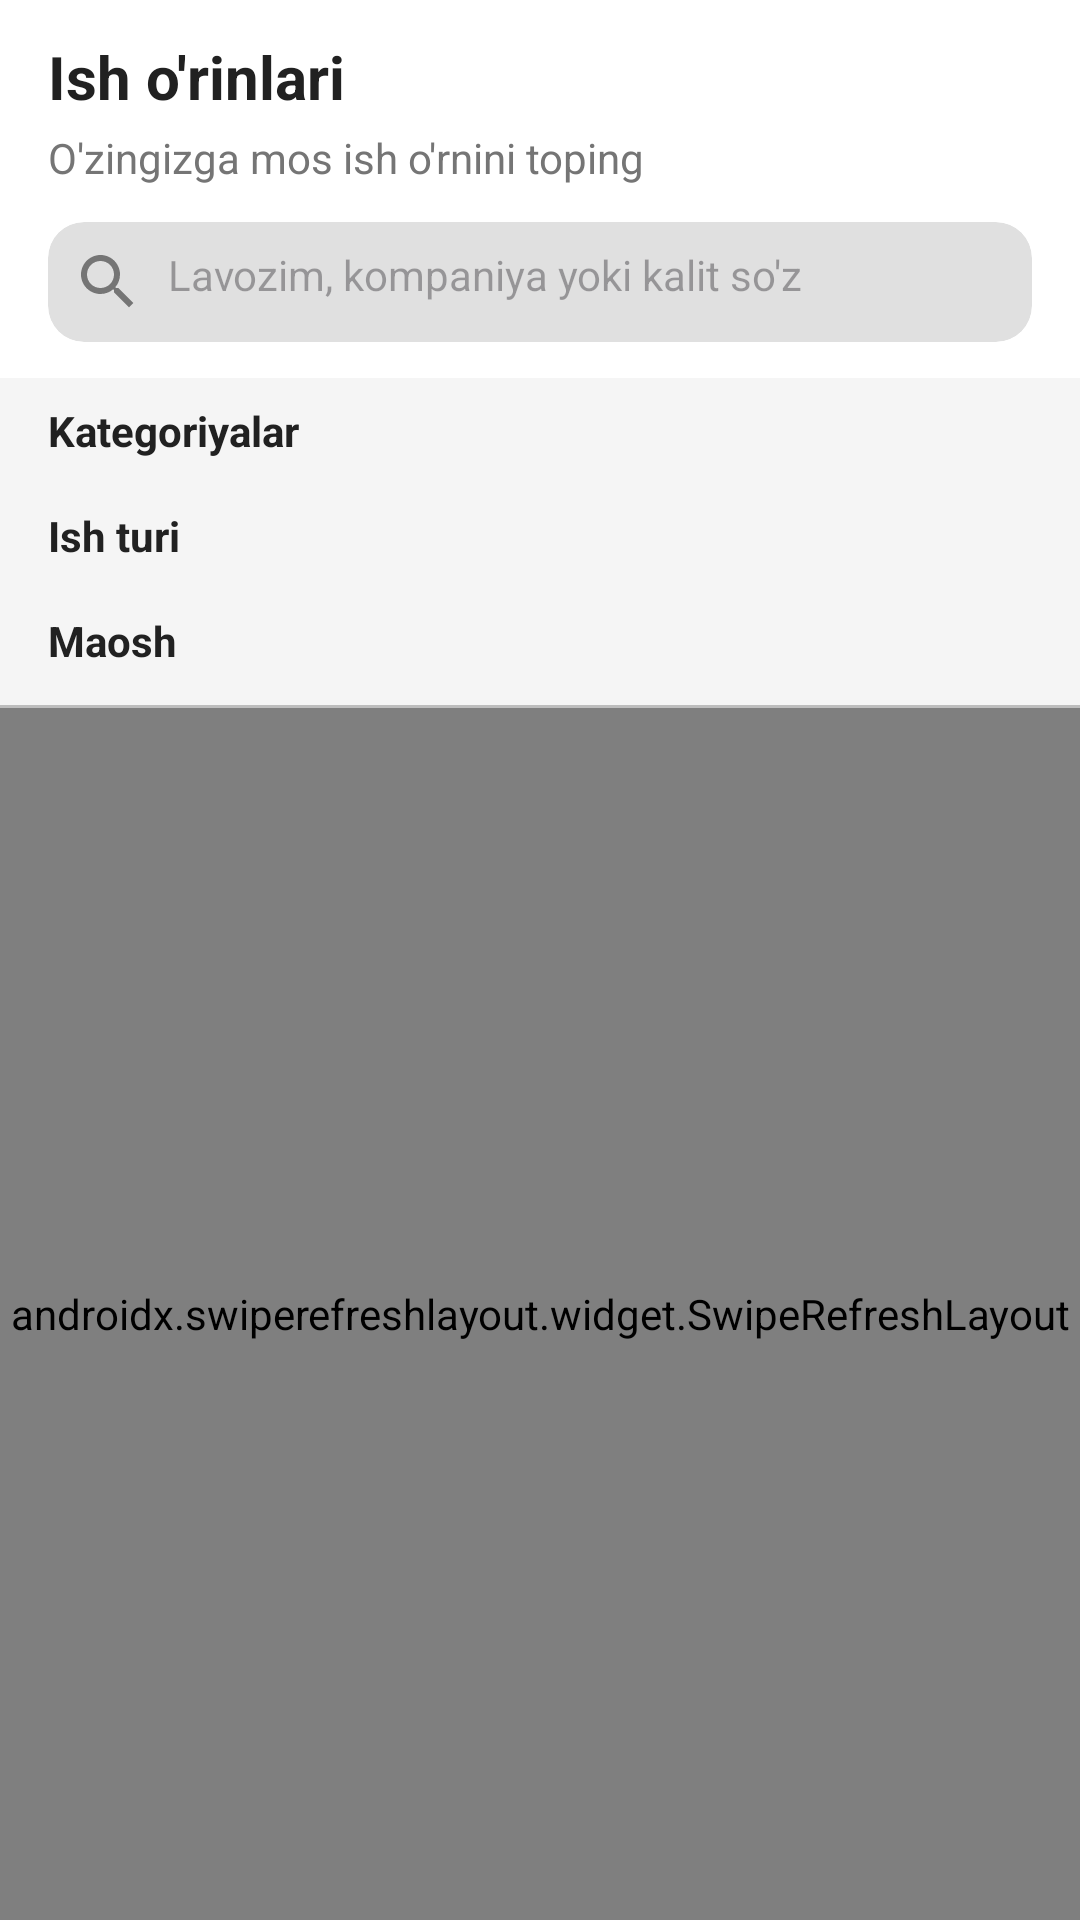

Named icons in this screenshot (1080 × 1920) and their centers, point (x, y):
search: point (107, 281)
